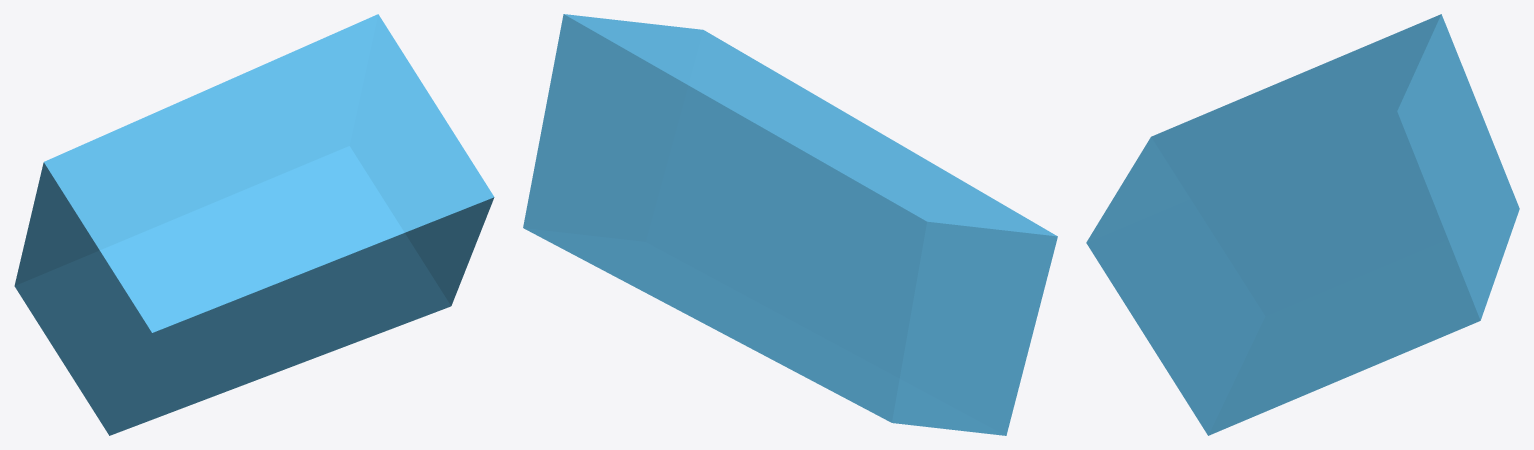
The model's file is Event_421115418_HErechit_54.fbx.
3 renders of one model, left to right at view 1: azimuth 30°, elevation 25°; view 2: azimuth 150°, elevation 25°; view 3: azimuth 270°, elevation 25°, orthographic. The views are drawn at different scales.
Parts seen in each view (by area): view 1: Model; view 2: Model; view 3: Model.
Boxes of the visible parts, bbox=[...] form: Model: bbox=[14, 14, 494, 435]; Model: bbox=[523, 14, 1057, 435]; Model: bbox=[1086, 14, 1519, 435].
Bounding box in the file's own units: 0.7227 × 0.6644 × 0.6325.
